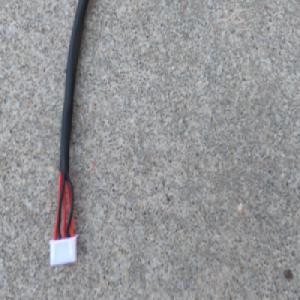Wire: (47, 0, 91, 268)
